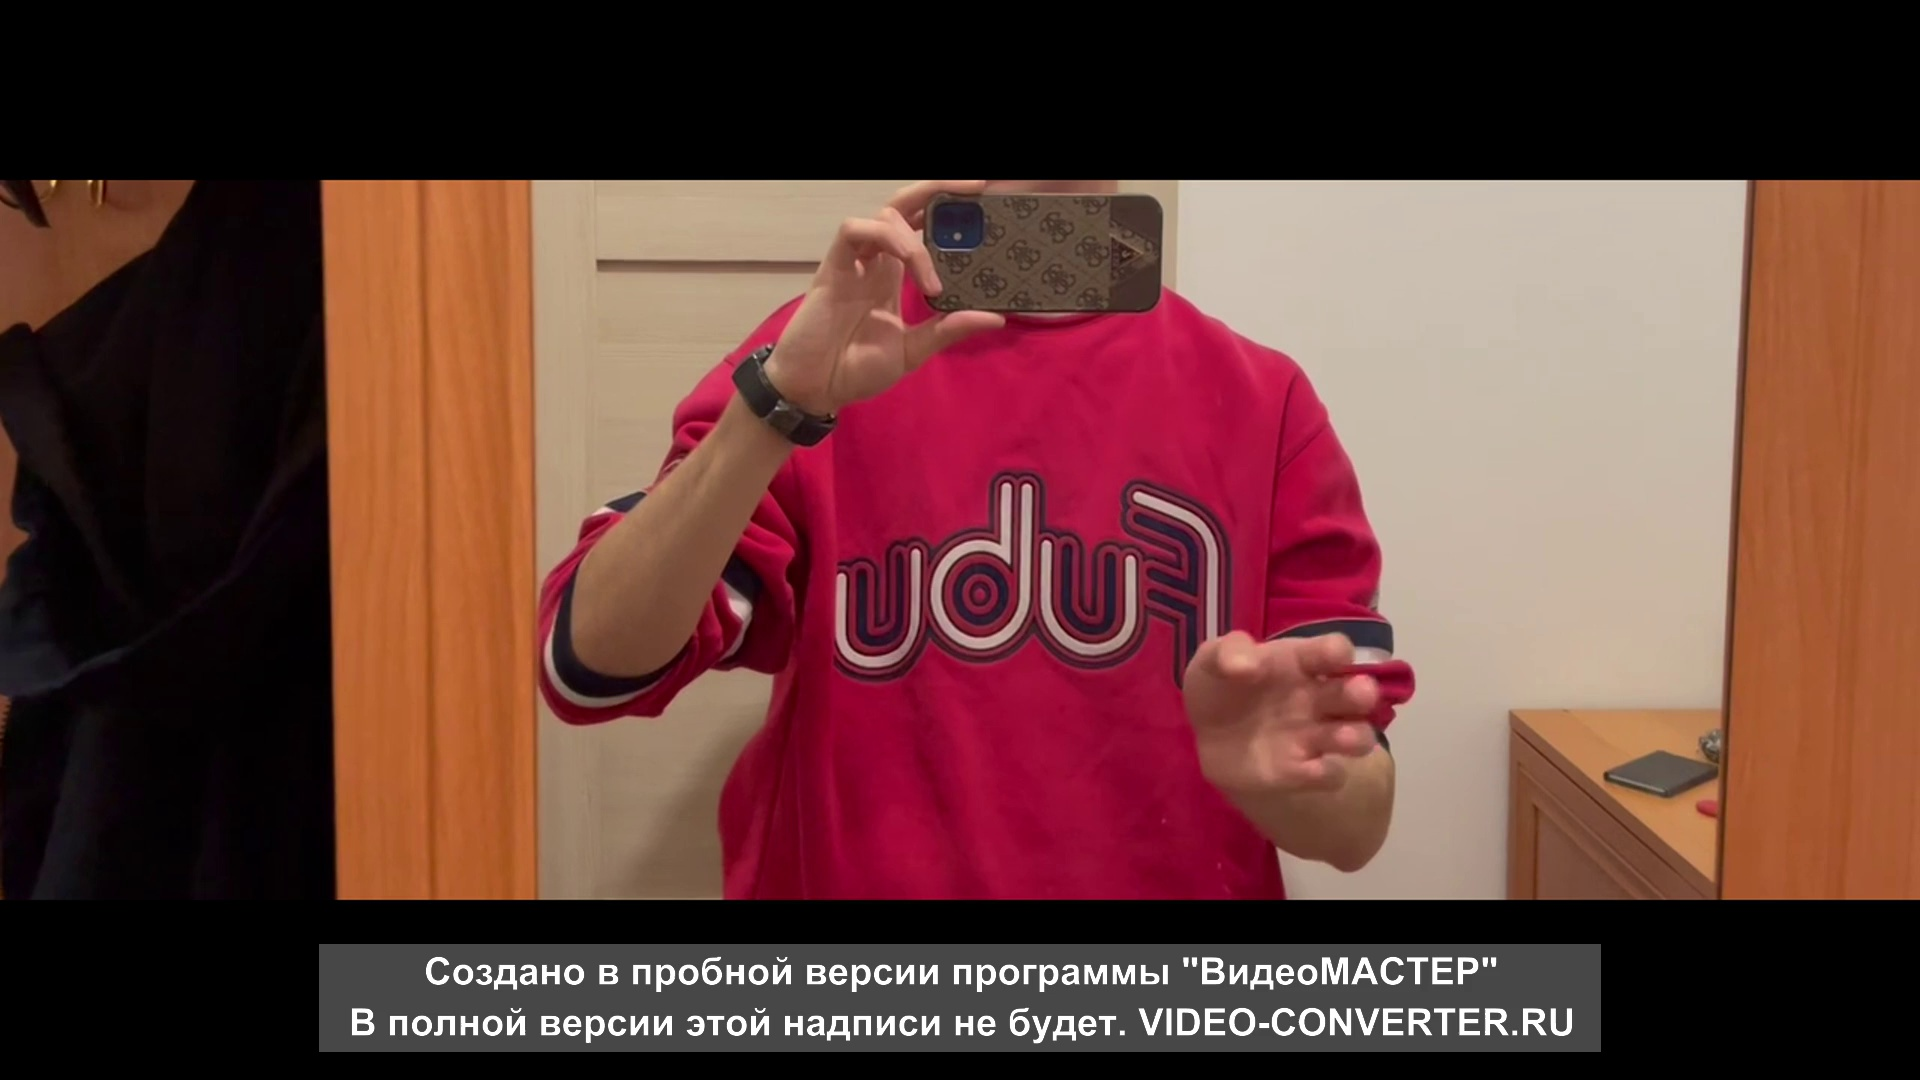Ладонь: (1183, 628, 1381, 791)
